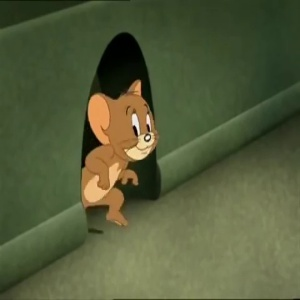Jerry: (88, 81, 164, 162)
